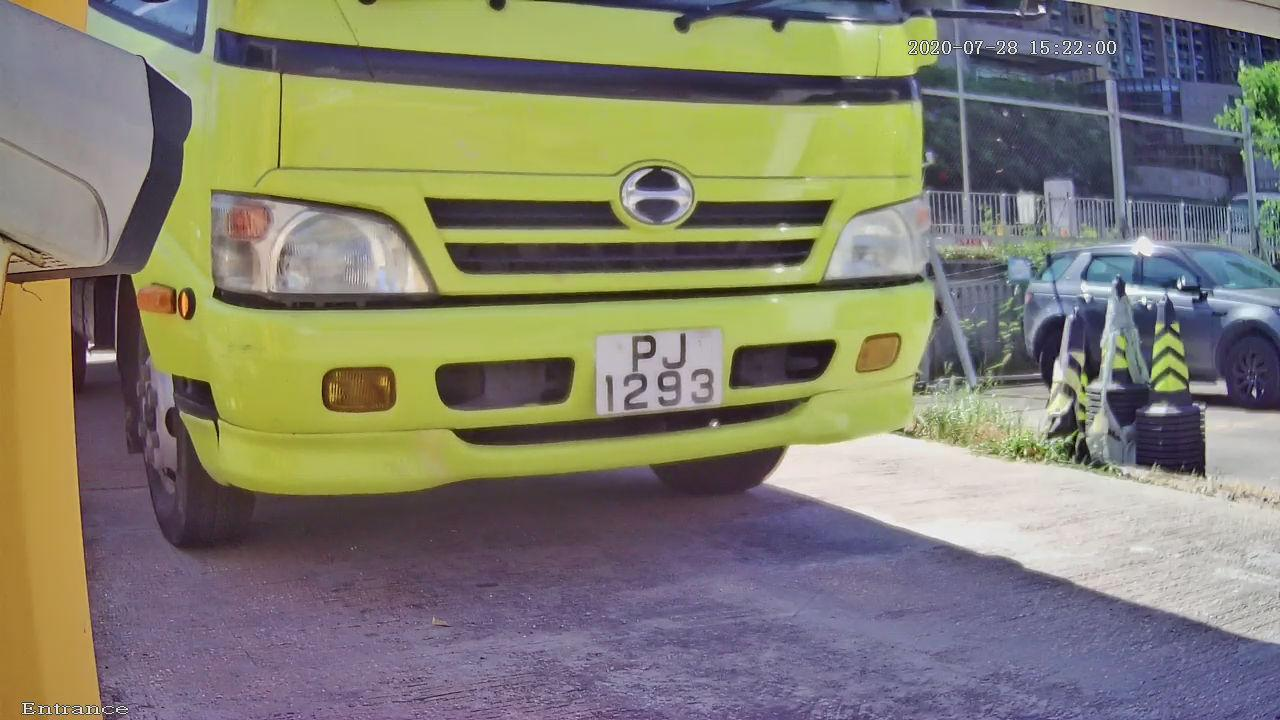truck_large: (71, 1, 969, 511)
